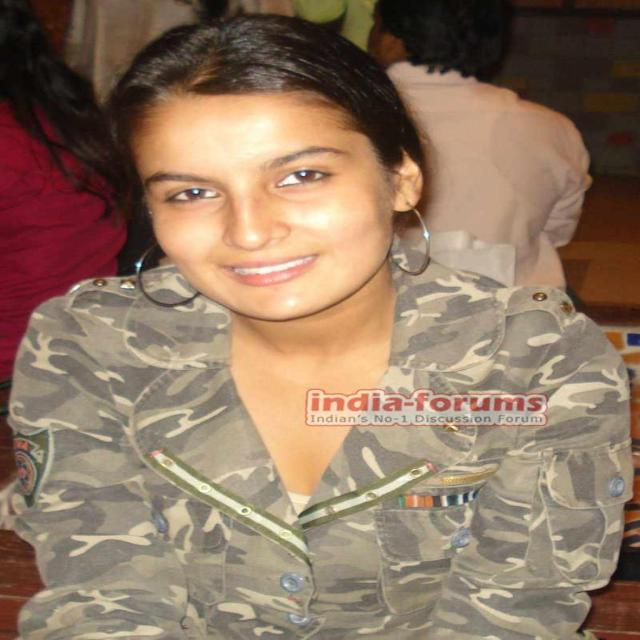Face: (135, 96, 385, 329)
